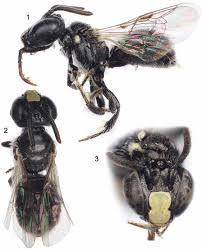Braunsapis: (11, 2, 187, 132), (106, 122, 196, 240), (6, 78, 62, 250)
